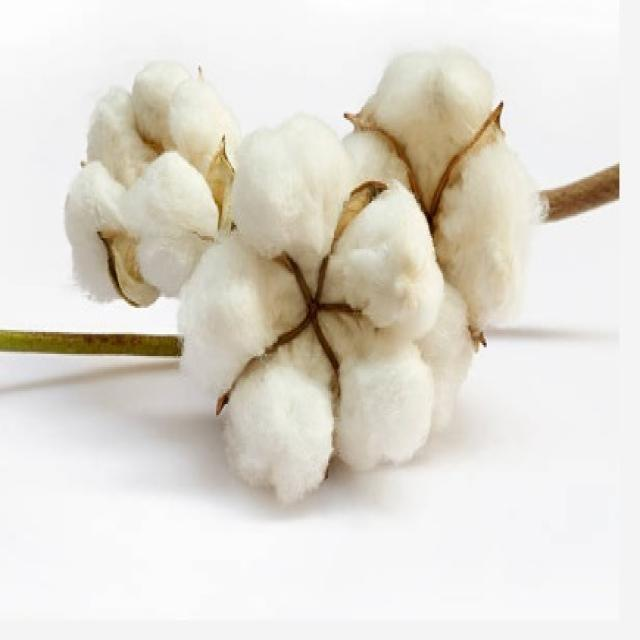Matured Cotton Boll: (171, 124, 479, 488), (358, 46, 552, 327), (53, 64, 237, 290)
